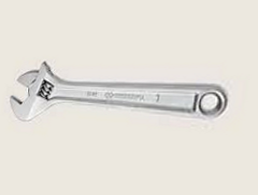wrench: (6, 52, 234, 128)
